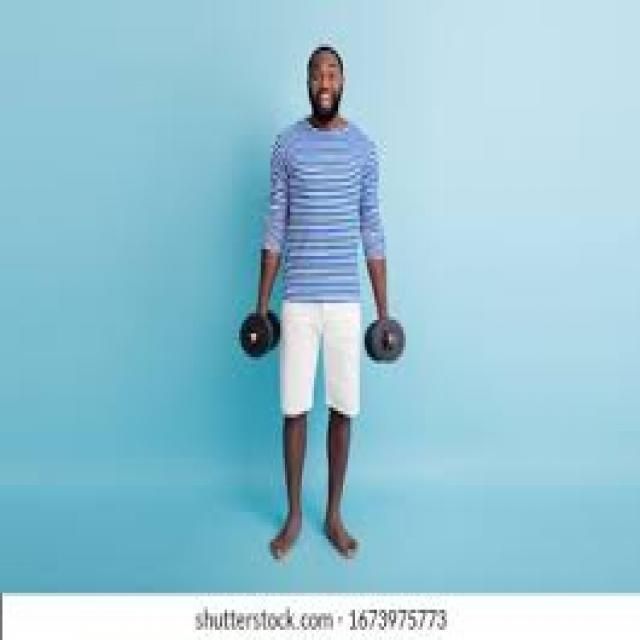No_BreathingApparatus: (304, 59, 342, 114)
No_Goggles: (310, 63, 338, 81)
No_Helmet: (301, 36, 345, 69)
No_Shoe: (269, 509, 303, 567), (322, 507, 360, 557)
Person: (270, 40, 367, 587)
